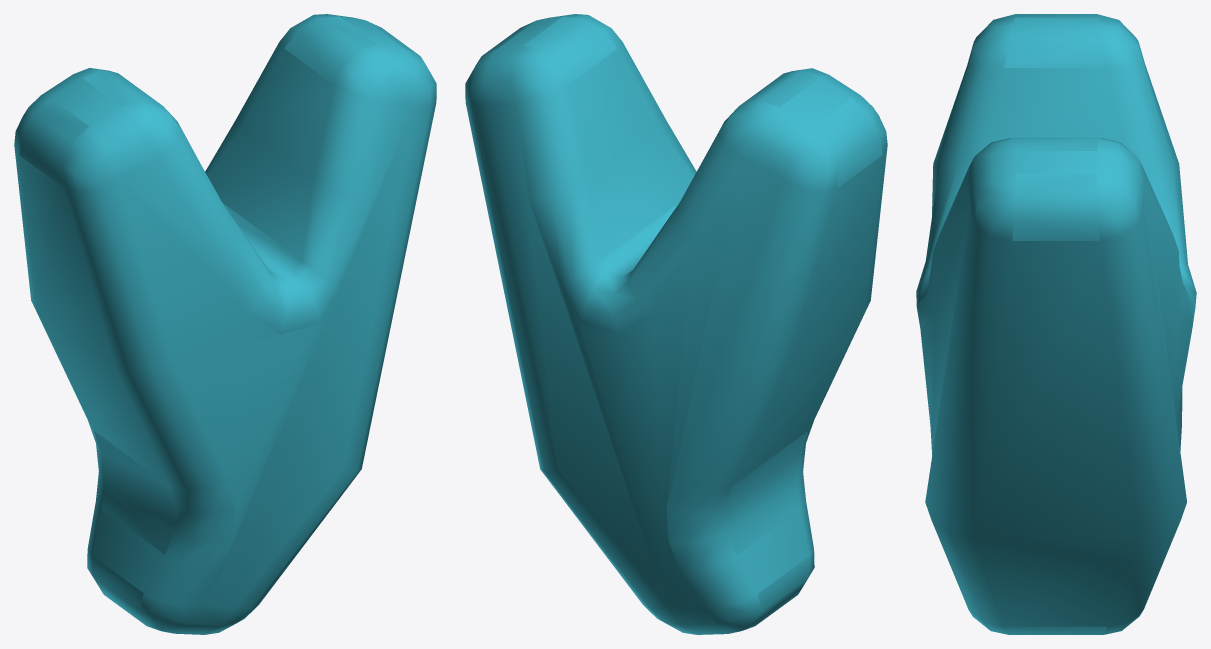
The picture shows the model from 3 angles, left to right: view 1: azimuth 30°, elevation 25°; view 2: azimuth 150°, elevation 25°; view 3: azimuth 270°, elevation 25°; orthographic projection. The views are drawn at different scales.
Parts seen in each view (by area): view 1: y; view 2: y; view 3: y.
Part boxes in pixels (x1,y1,x2,y2): y: [14, 14, 436, 634]; y: [465, 14, 887, 634]; y: [916, 14, 1196, 634].
Bounding box in the file's own units: 154 × 218 × 96.99.
